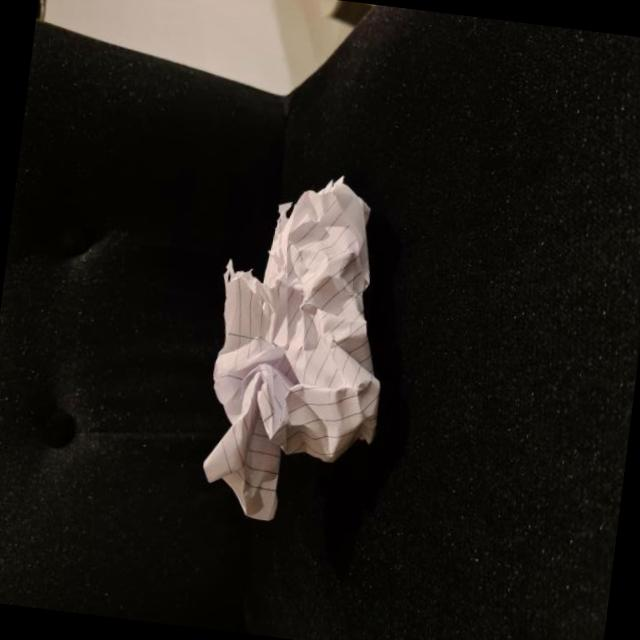cardboard paper: (200, 181, 376, 521)
